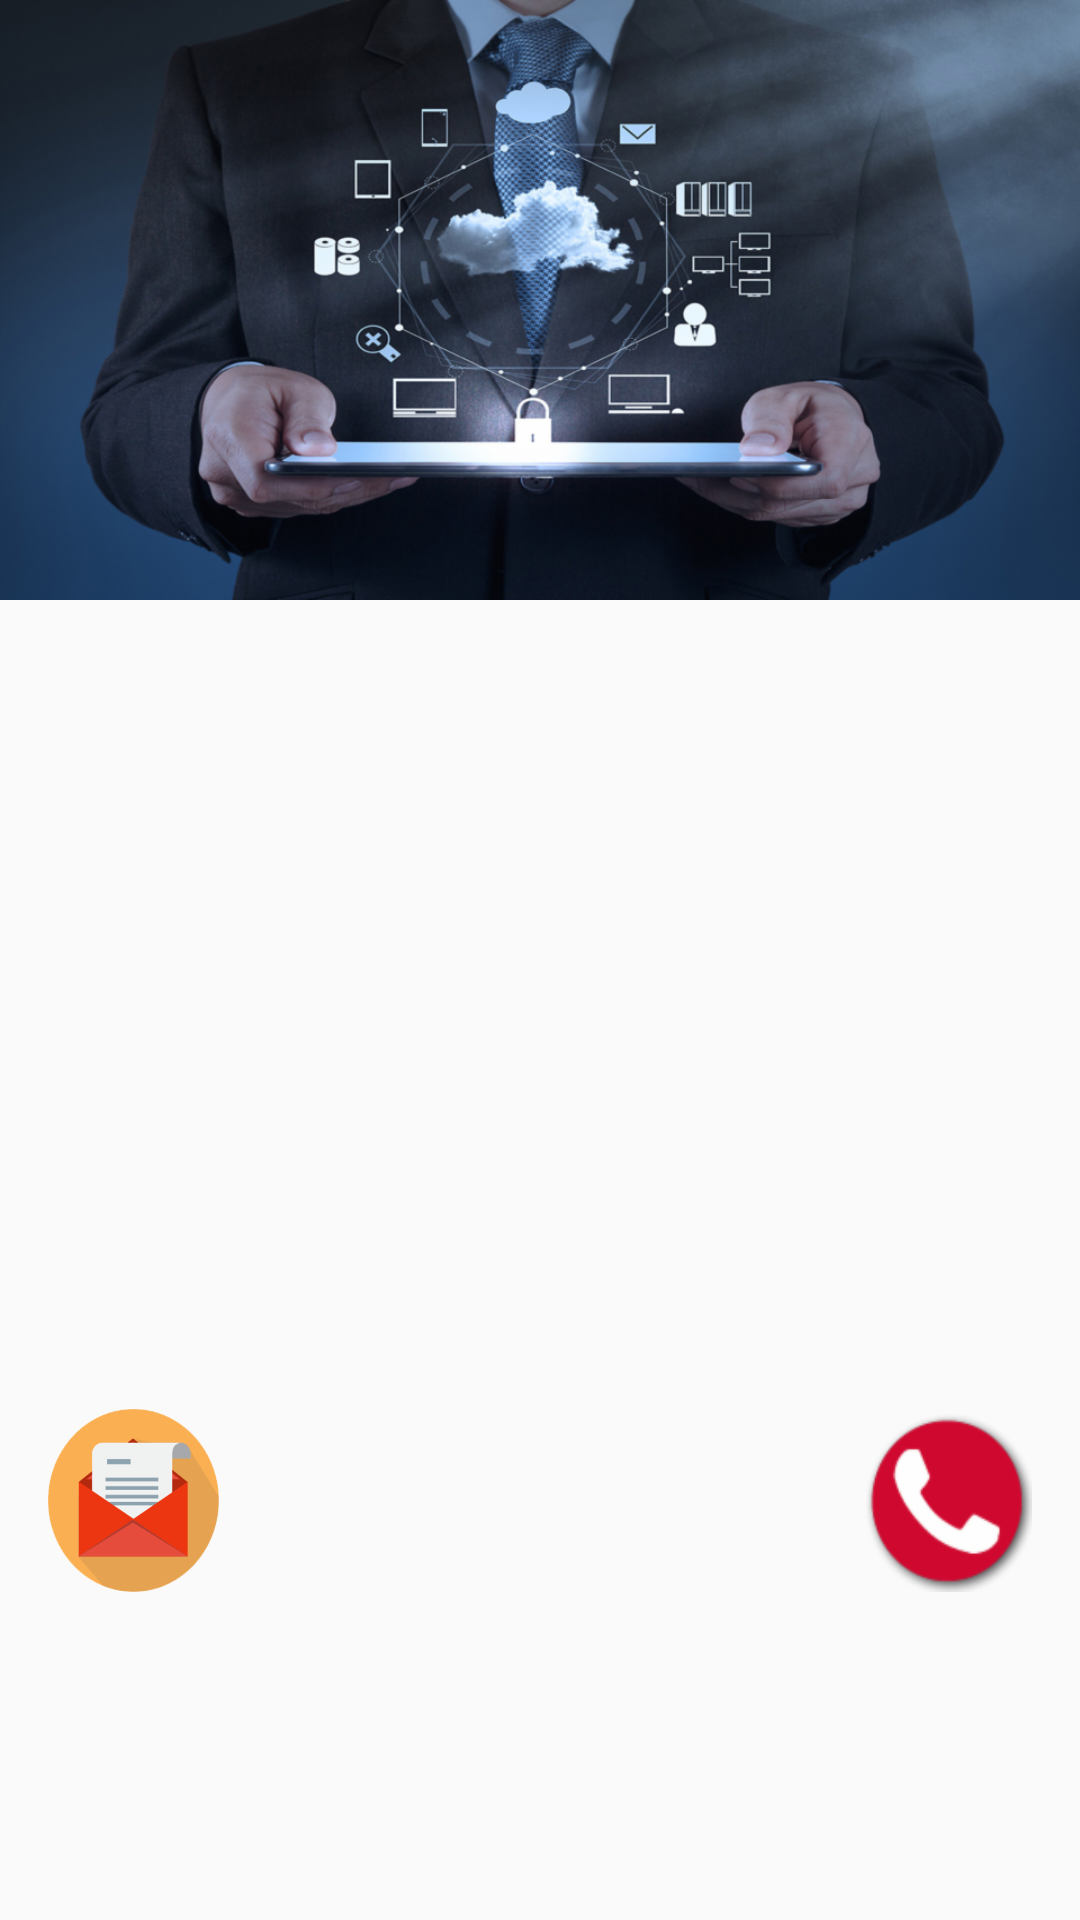

Icons on this 1080px×1920px Android screen, each with its box as BBox(x1, y1, x2, y2):
call: BBox(869, 1418, 1031, 1591)
enquiry: BBox(48, 1409, 219, 1592)
